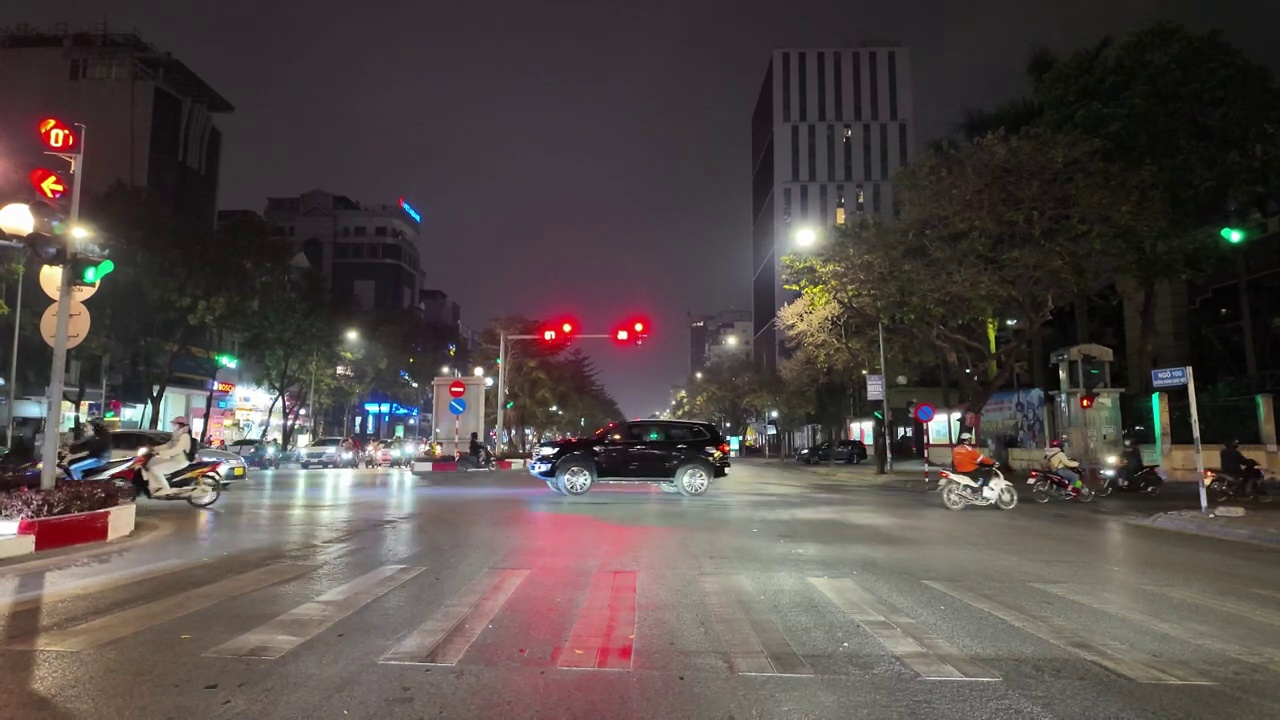acesa: (785, 220, 825, 256), (0, 204, 35, 237), (66, 220, 97, 247), (719, 330, 745, 353), (340, 326, 364, 350)
